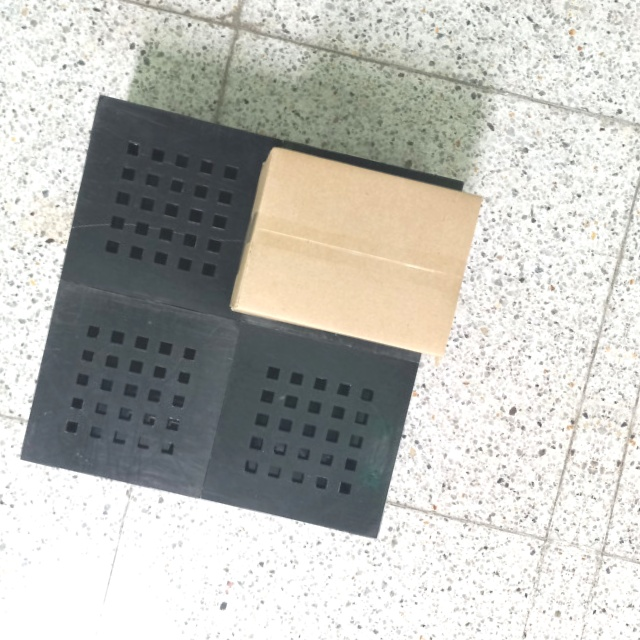box: (226, 139, 488, 362)
pallet: (13, 83, 471, 546)
